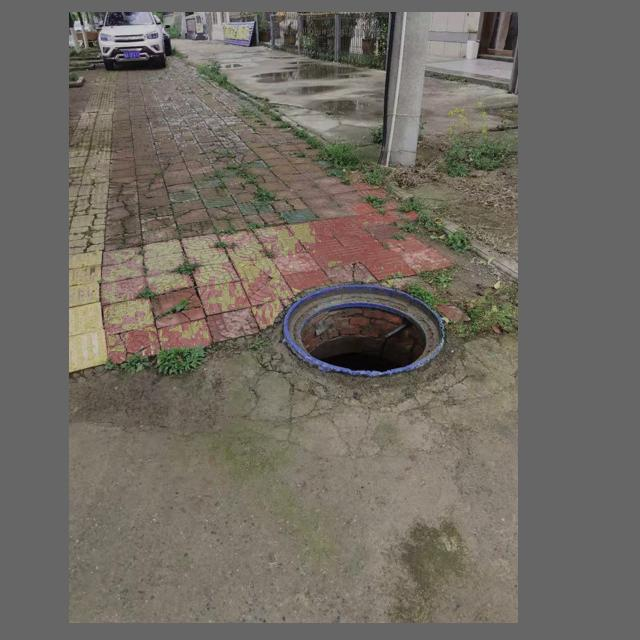lose: (284, 284, 446, 374)
